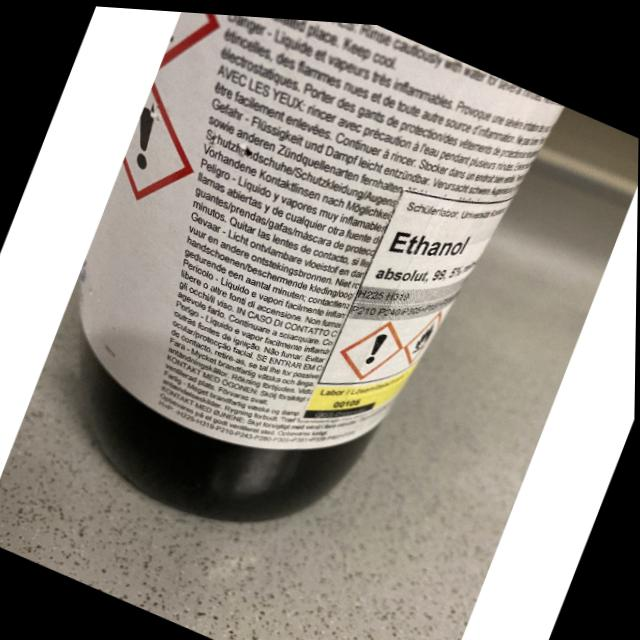health-ozone layer hazard: (367, 325, 389, 363)
